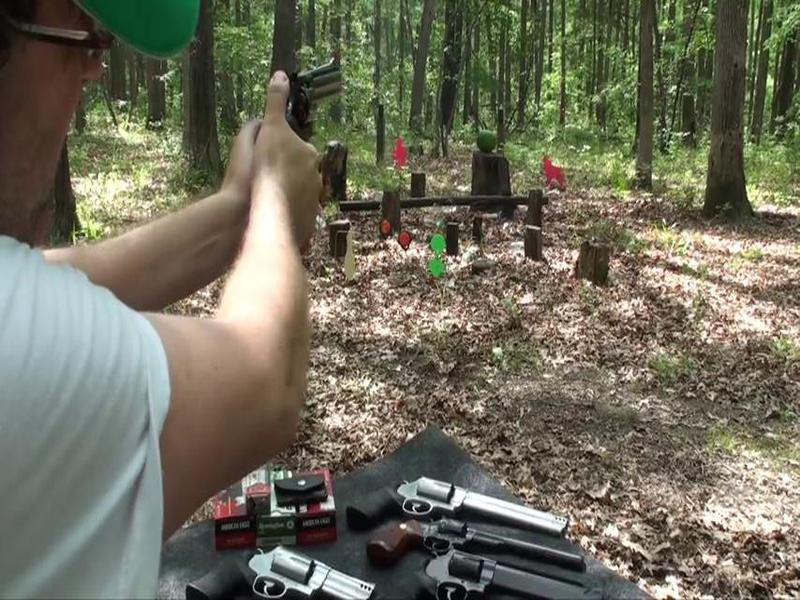Revolver: (264, 42, 353, 157)
